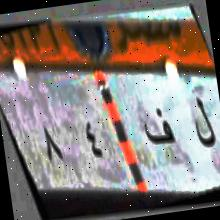4: (82, 119, 105, 168)
8: (40, 122, 64, 171)
faa: (141, 103, 178, 157)
laam: (188, 89, 220, 161)
